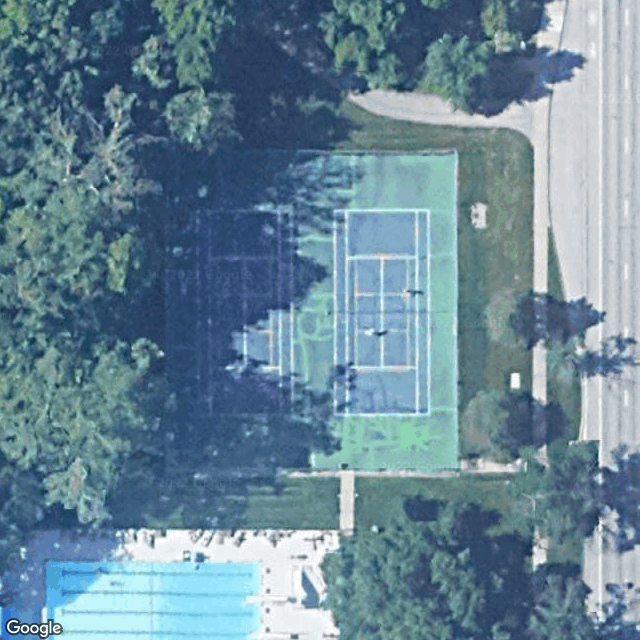Court: (329, 207, 433, 419), (194, 208, 297, 417)
